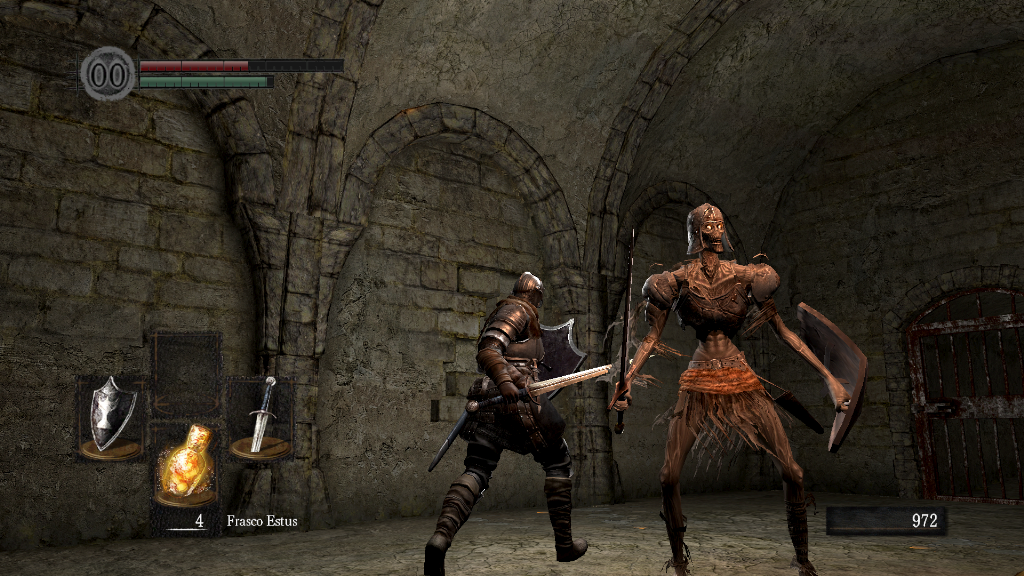health: (138, 58, 343, 71)
humanity: (80, 45, 136, 102)
player: (421, 267, 659, 576)
souls: (825, 506, 945, 536)
stamina: (138, 74, 274, 88)
undeadSoldier: (612, 203, 870, 576)
